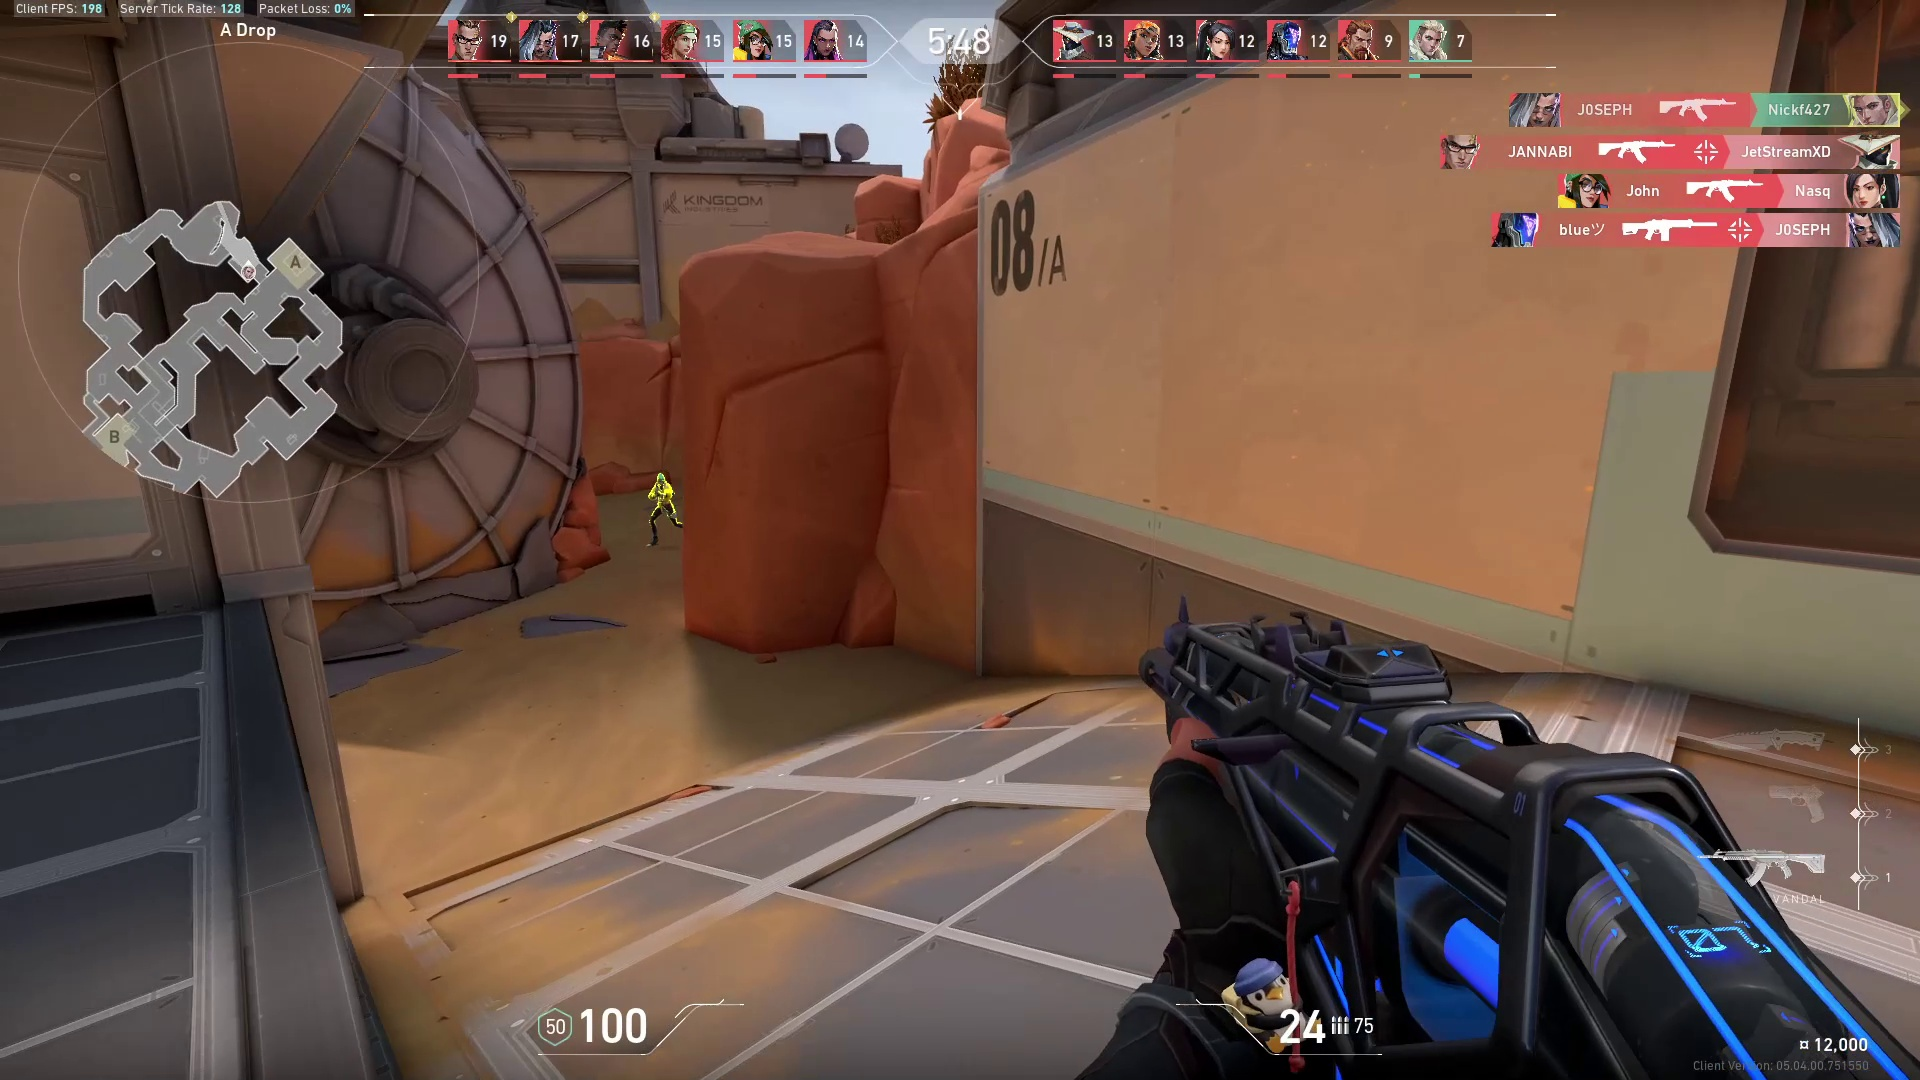enemy_body: (647, 486, 683, 550)
enemy_head: (655, 471, 669, 489)
